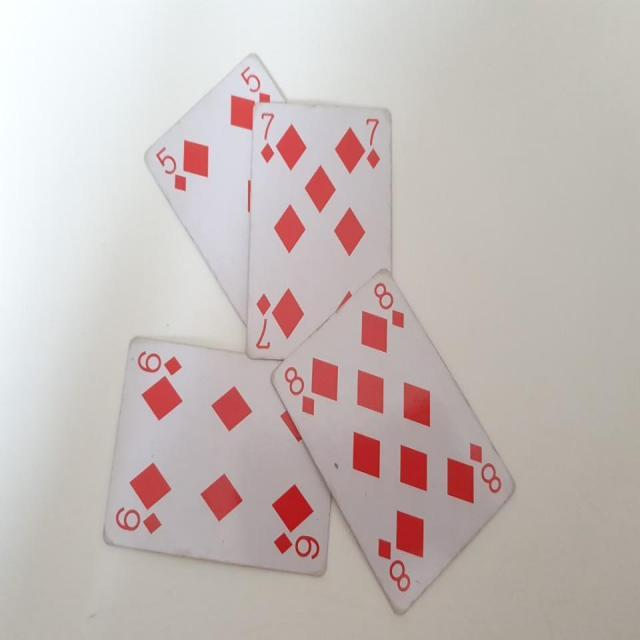5 of diamonds: (140, 43, 296, 324)
6 of diamonds: (100, 336, 327, 591)
7 of diamonds: (246, 103, 394, 360)
8 of diamonds: (267, 266, 519, 618)
